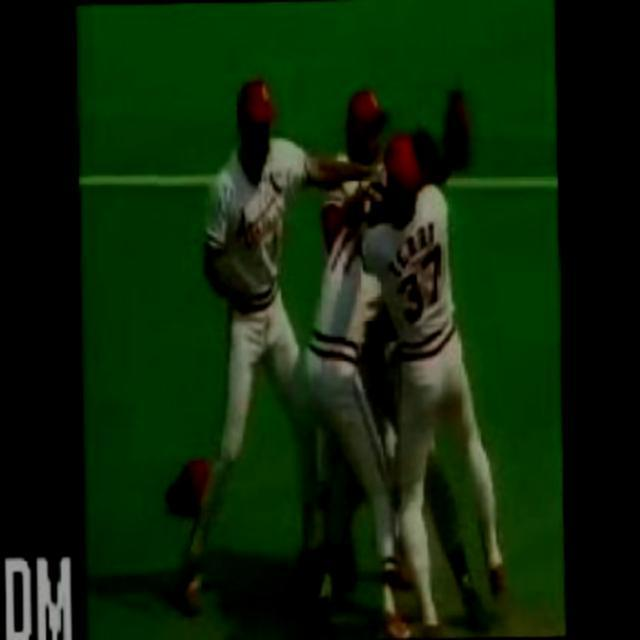fight: (297, 83, 511, 639)
